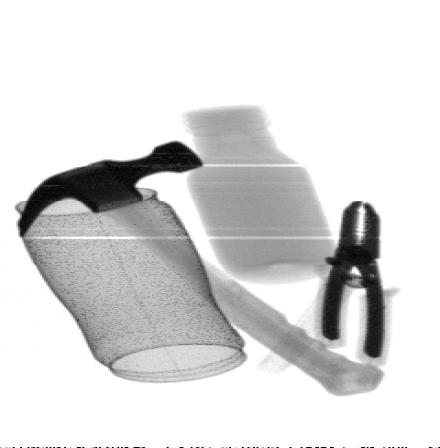Hammer: (14, 140, 389, 397)
Pliers: (313, 200, 400, 368)
